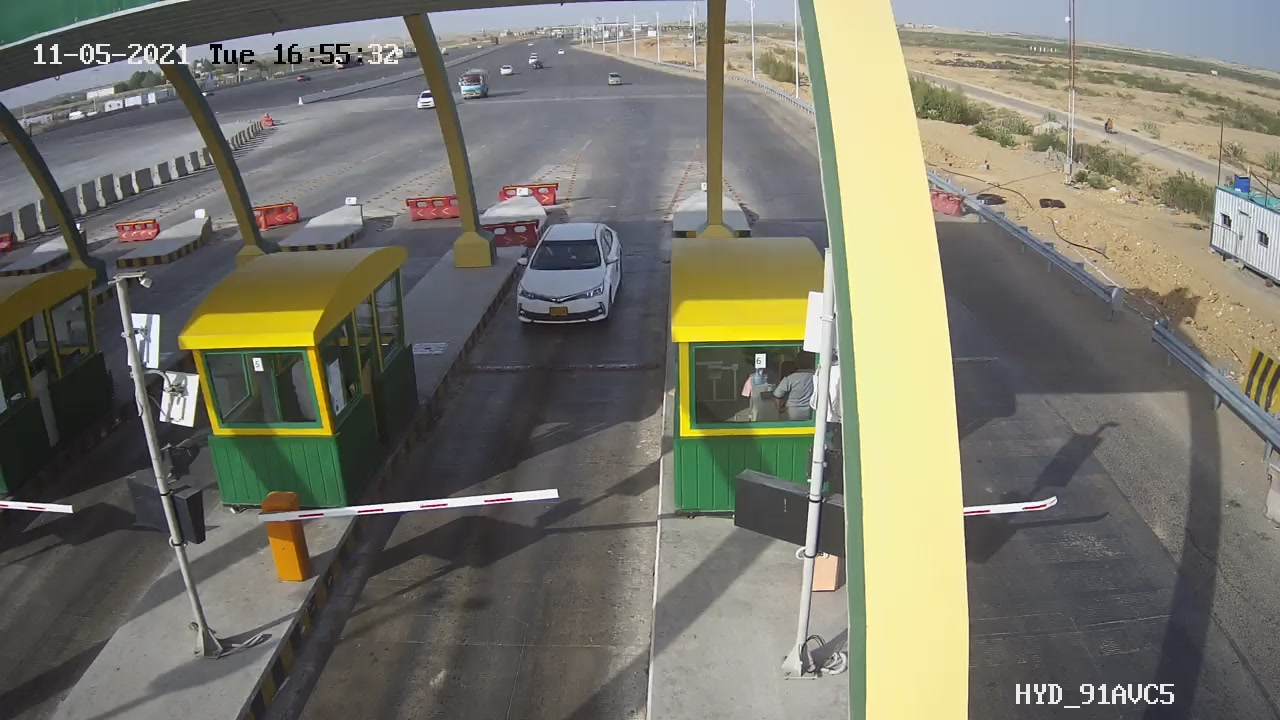F1: (498, 210, 644, 346)
